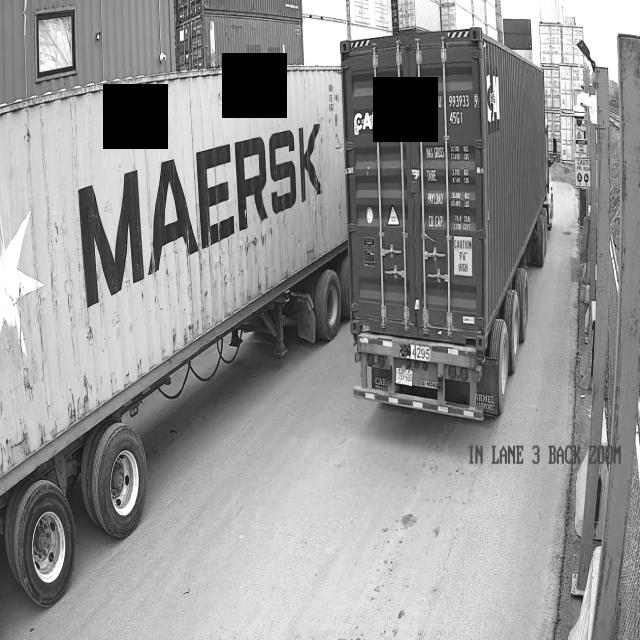container_company_logo: (78, 122, 324, 306), (356, 95, 382, 138)
container_number: (424, 68, 486, 308)
license_plate: (393, 330, 447, 378)
truck_with_container: (0, 66, 353, 606), (342, 27, 554, 419)
